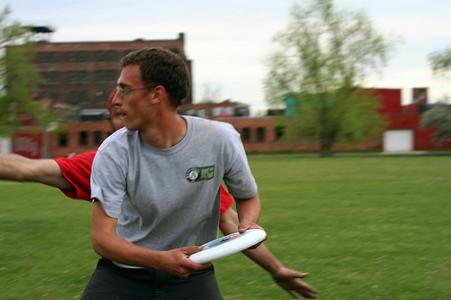person: (80, 48, 269, 300)
